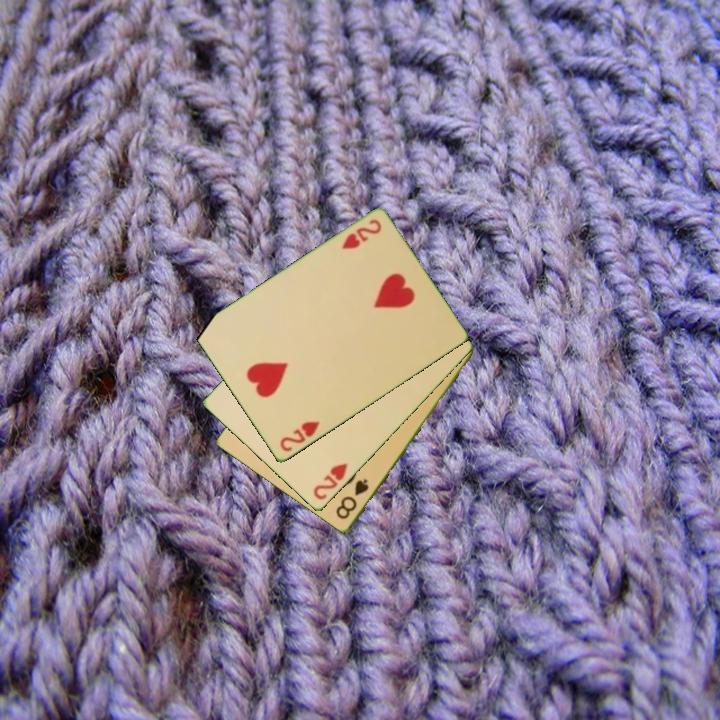2h: (310, 459, 351, 503), (276, 418, 323, 455), (338, 216, 384, 253)
8s: (332, 476, 372, 523)
